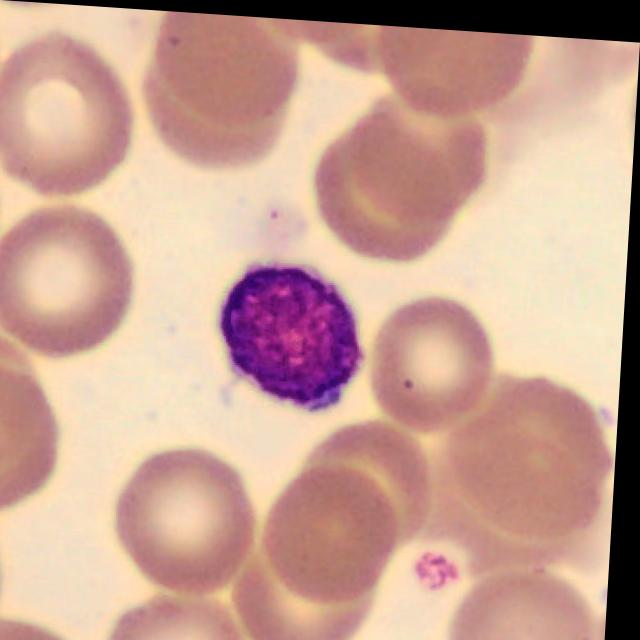Linfocito: (225, 265, 366, 404)
